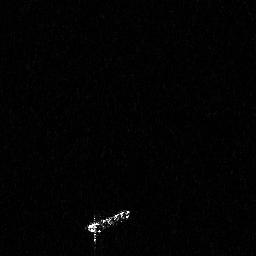ship: (83, 206, 132, 250)
